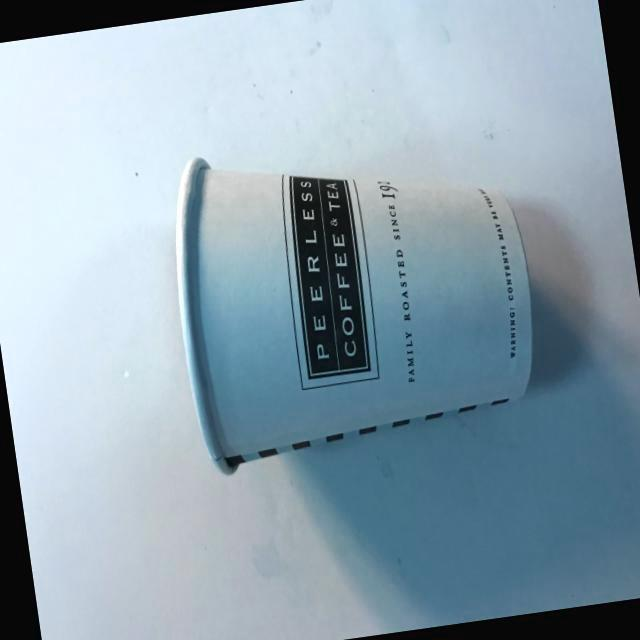paper: (150, 96, 575, 518)
